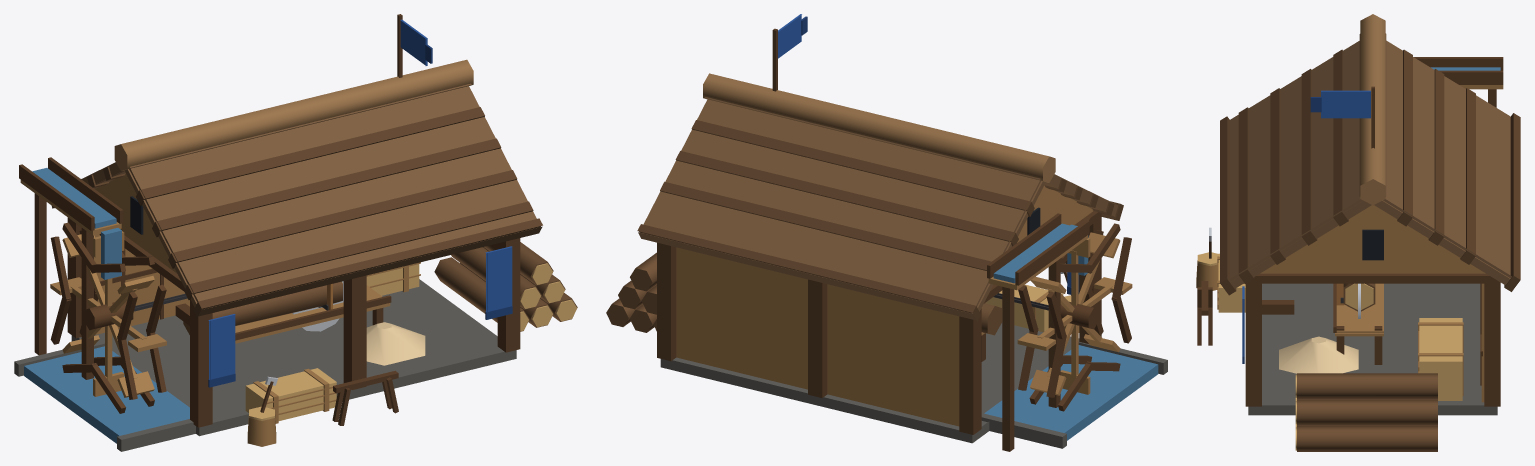
The model's file is sawmill.glb.
3 renders of one model, left to right at view 1: azimuth 30°, elevation 25°; view 2: azimuth 150°, elevation 25°; view 3: azimuth 270°, elevation 25°, orthographic. The views are drawn at different scales.
Visible parts, largest first — view 1: sawmill; view 2: sawmill; view 3: sawmill.
Part boxes in pixels (bbox=[...]): sawmill: bbox=[14, 14, 577, 451]; sawmill: bbox=[606, 14, 1167, 451]; sawmill: bbox=[1196, 14, 1520, 451].
Bounding box in the file's own units: 9.94 × 6.16 × 5.98.
Materials: 1 (1 with a texture image).
